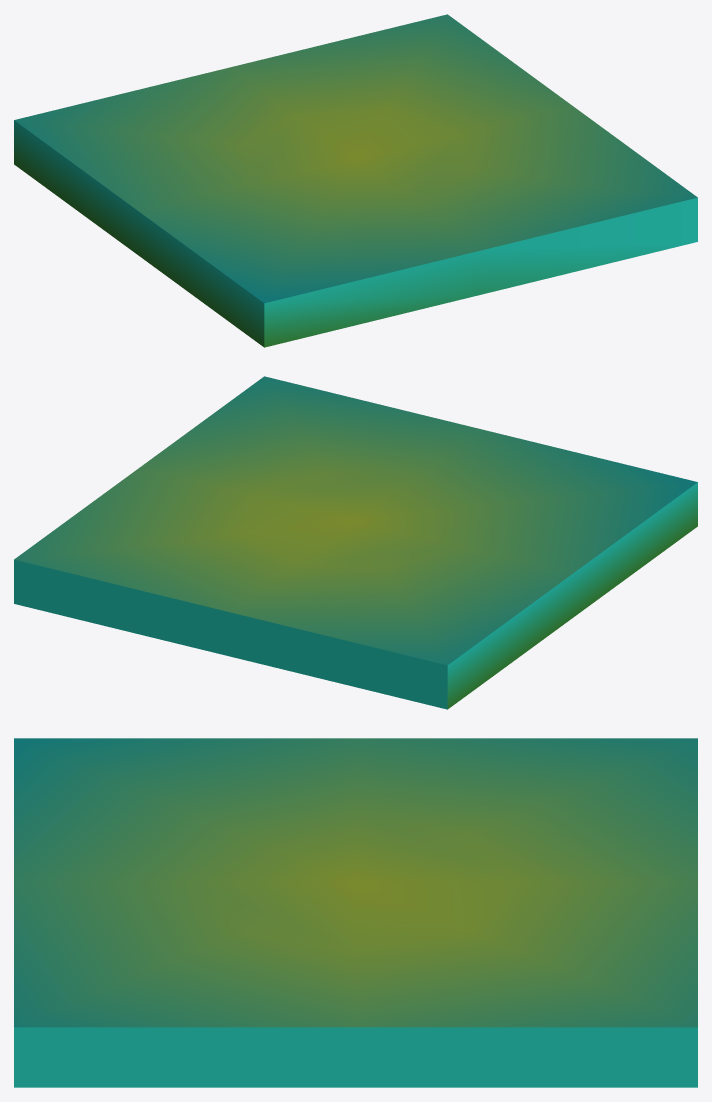
3 views of the same model, one above another, from view 1: azimuth 30°, elevation 25°; view 2: azimuth 150°, elevation 25°; view 3: azimuth 270°, elevation 25° (orthographic). The views are drawn at different scales.
Visible parts, largest first — view 1: Cube; view 2: Cube; view 3: Cube.
Boxes of the visible parts, x1,y1,x2,y2 form: Cube: (14,14,697,347); Cube: (14,376,697,709); Cube: (14,738,697,1087).
Size of the model in its own units: 49.04 by 4.79 by 49.04.
1 material, 1 textured.
